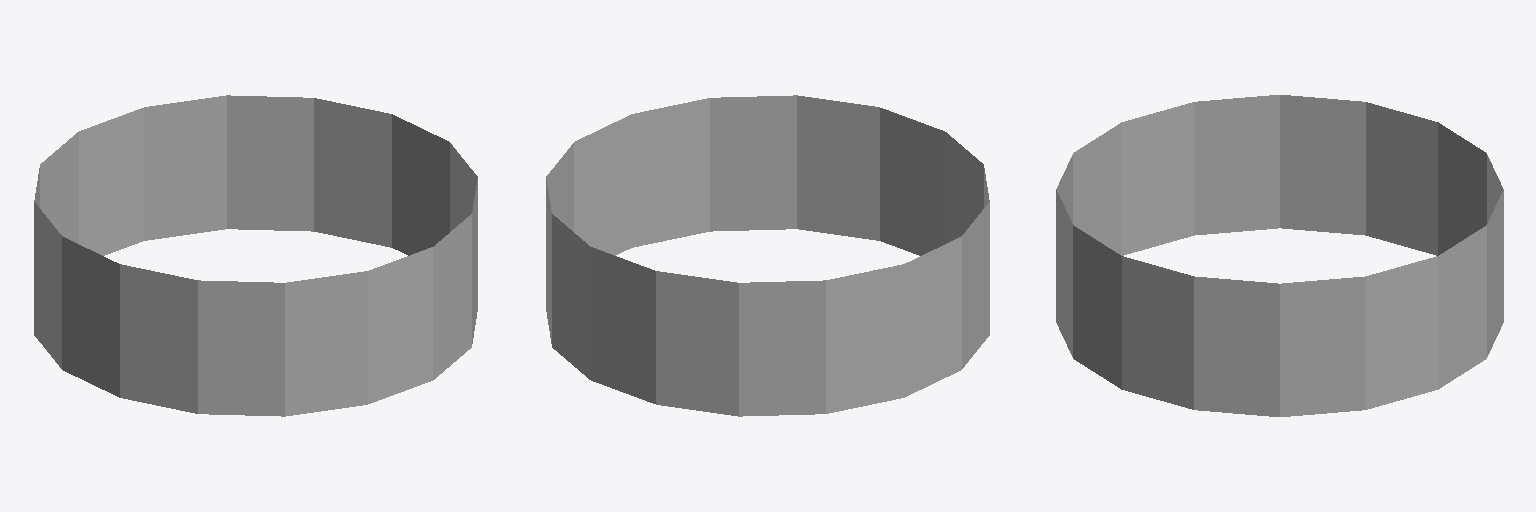
File: Core_III_Glass.obj
3 views of the same model, side by side, from view 1: azimuth 30°, elevation 25°; view 2: azimuth 150°, elevation 25°; view 3: azimuth 270°, elevation 25° (orthographic).
Parts seen in each view (by area): view 1: Core_III_Glass_Cylinder.008; view 2: Core_III_Glass_Cylinder.008; view 3: Core_III_Glass_Cylinder.008.
Part boxes in pixels (x1,y1,x2,y2): Core_III_Glass_Cylinder.008: (34,95,477,416); Core_III_Glass_Cylinder.008: (546,95,989,416); Core_III_Glass_Cylinder.008: (1056,95,1503,416).
Size of the model in its own units: 0.4984 by 0.1645 by 0.4984.